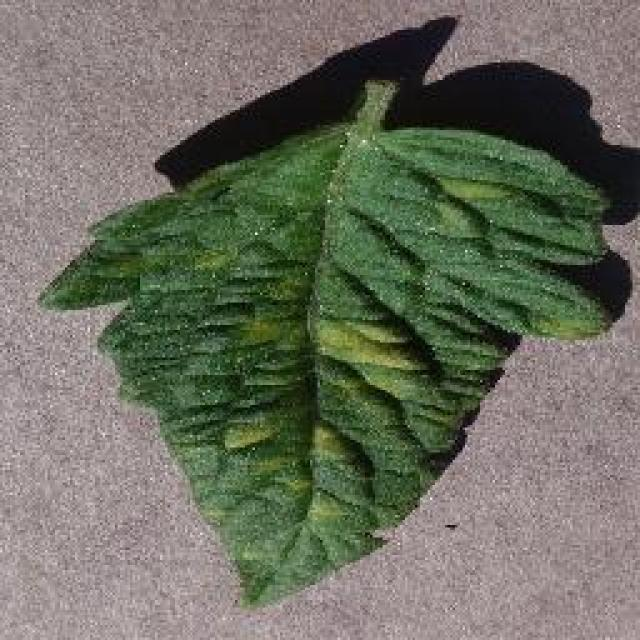Tomato___Leaf_Mold: (38, 82, 605, 600)
